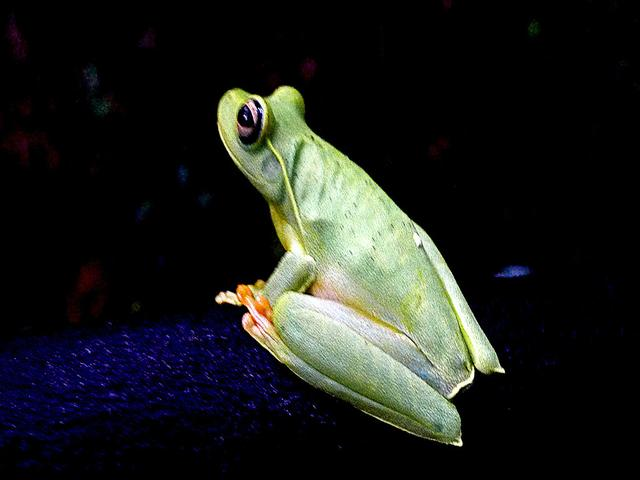frog: (157, 36, 508, 480)
